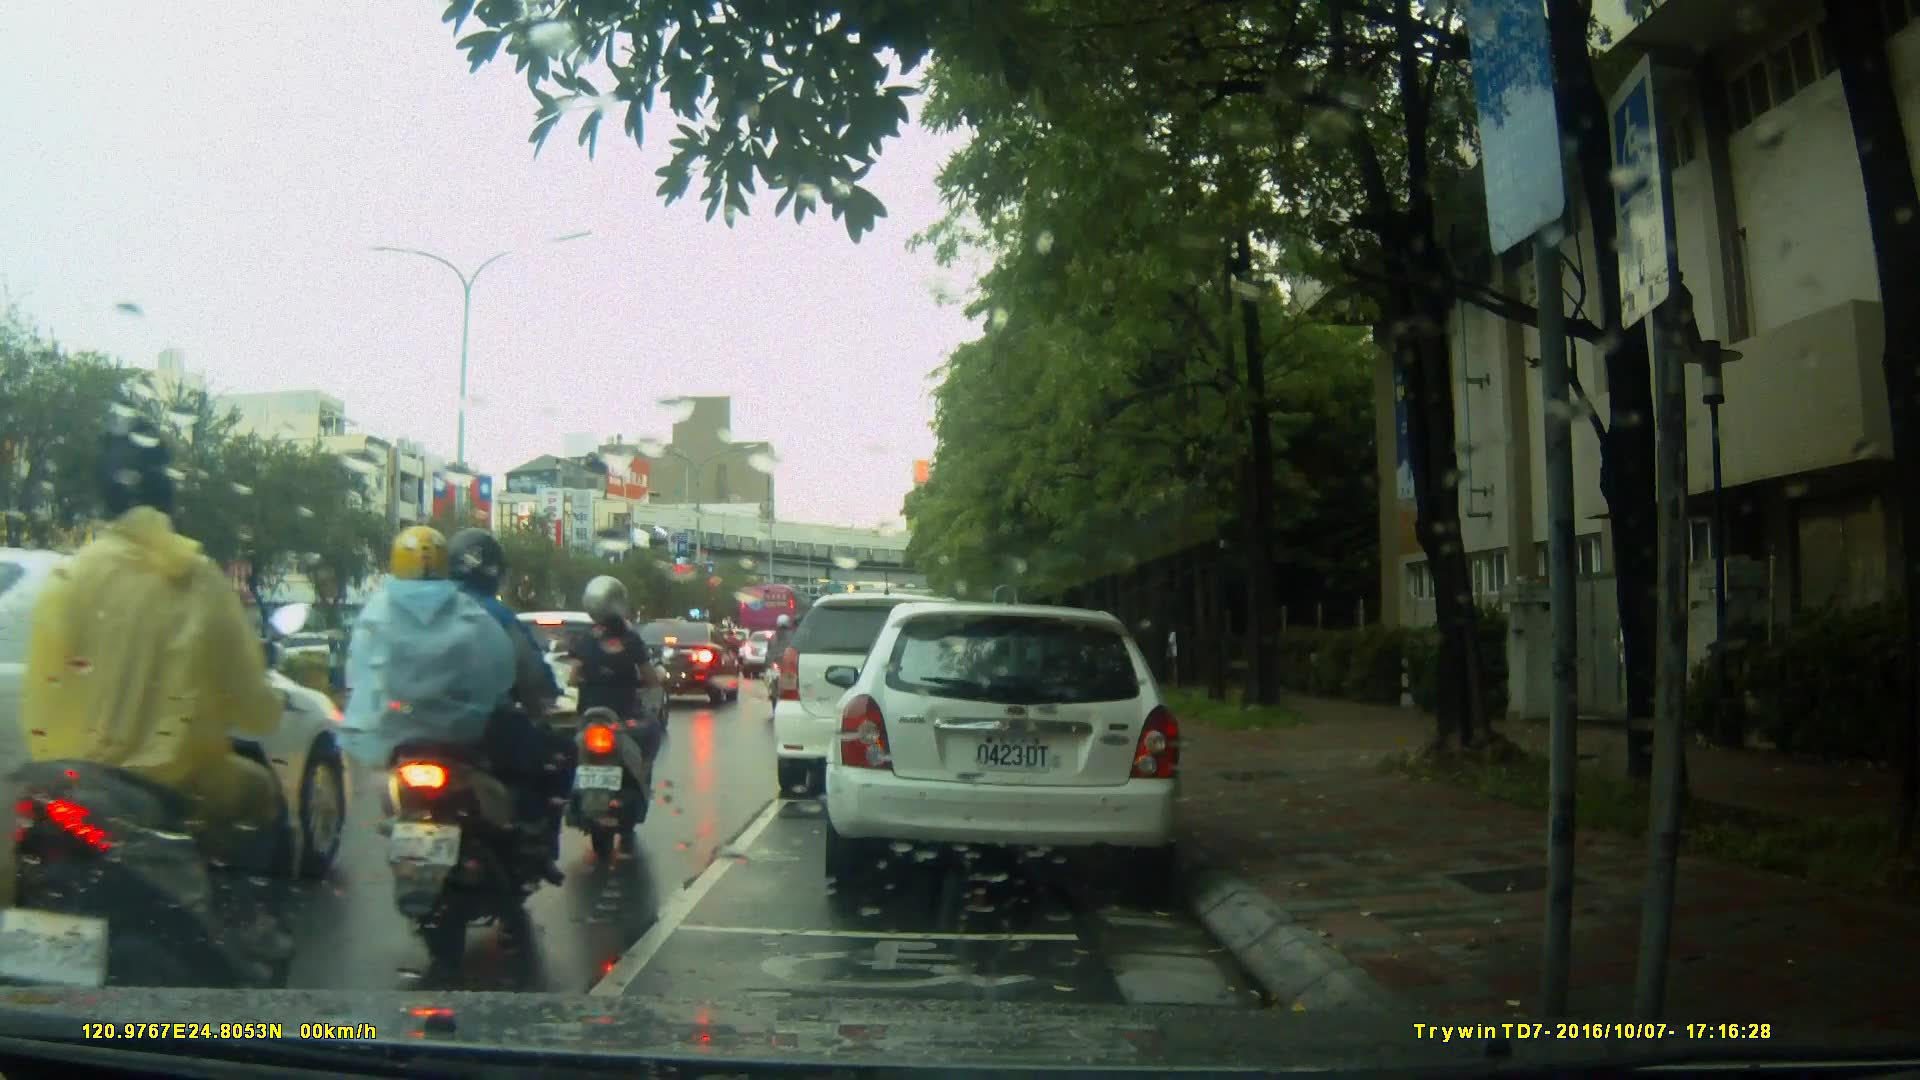rider: (5, 412, 311, 1039), (333, 523, 560, 967), (553, 576, 678, 864), (762, 612, 803, 716)
vehicle: (1, 523, 351, 930), (835, 594, 1194, 898), (776, 590, 1026, 784), (472, 608, 676, 744), (621, 620, 743, 708), (739, 583, 815, 654)
